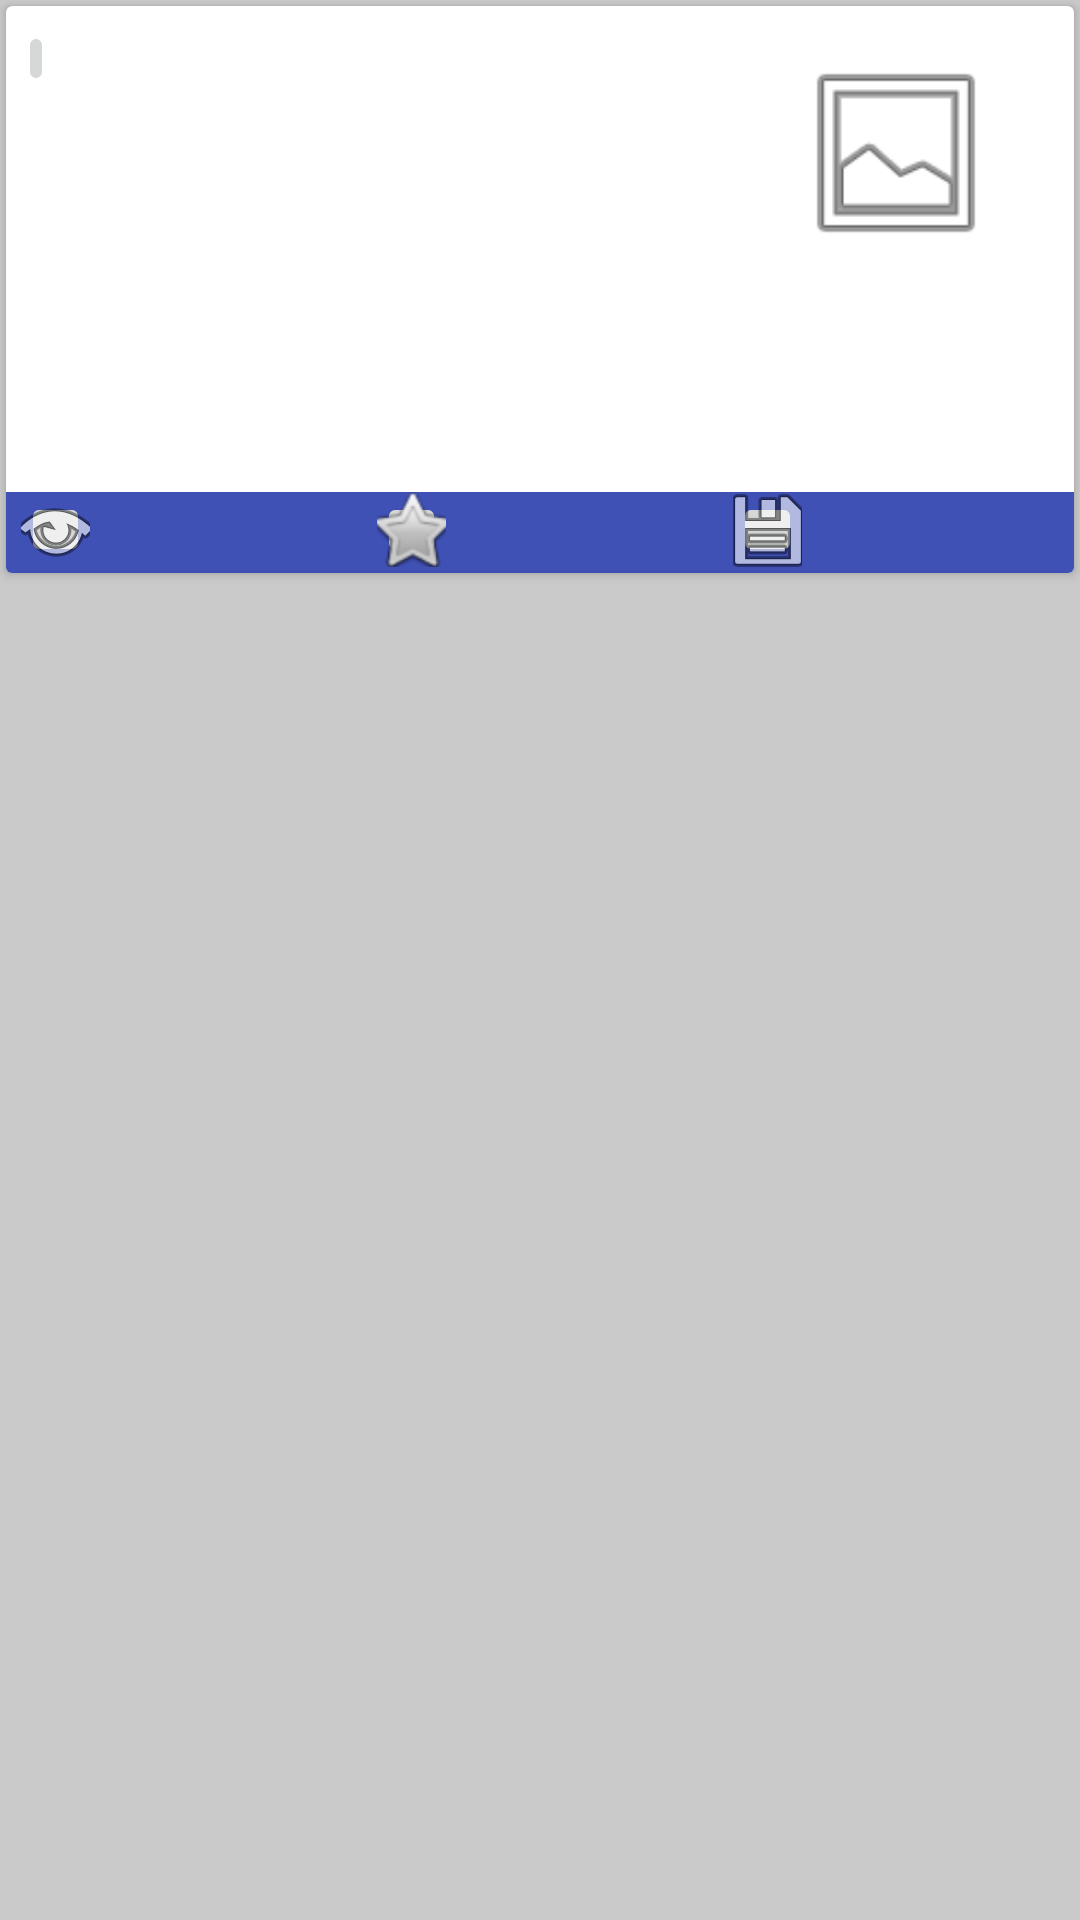

Locate icon controls on the screen. Image size 1080px x 1920px, boxes as (x1,y1,x2,y2).
gallery: (817,74,975,232)
save: (733,494,802,567)
star: (377,492,446,567)
view: (21,508,90,557)
